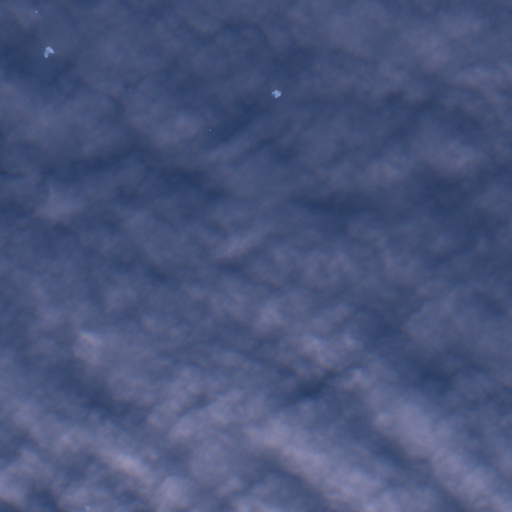Iceberg: (44, 46, 53, 57), (271, 90, 281, 97), (85, 507, 89, 510), (35, 10, 37, 13)
